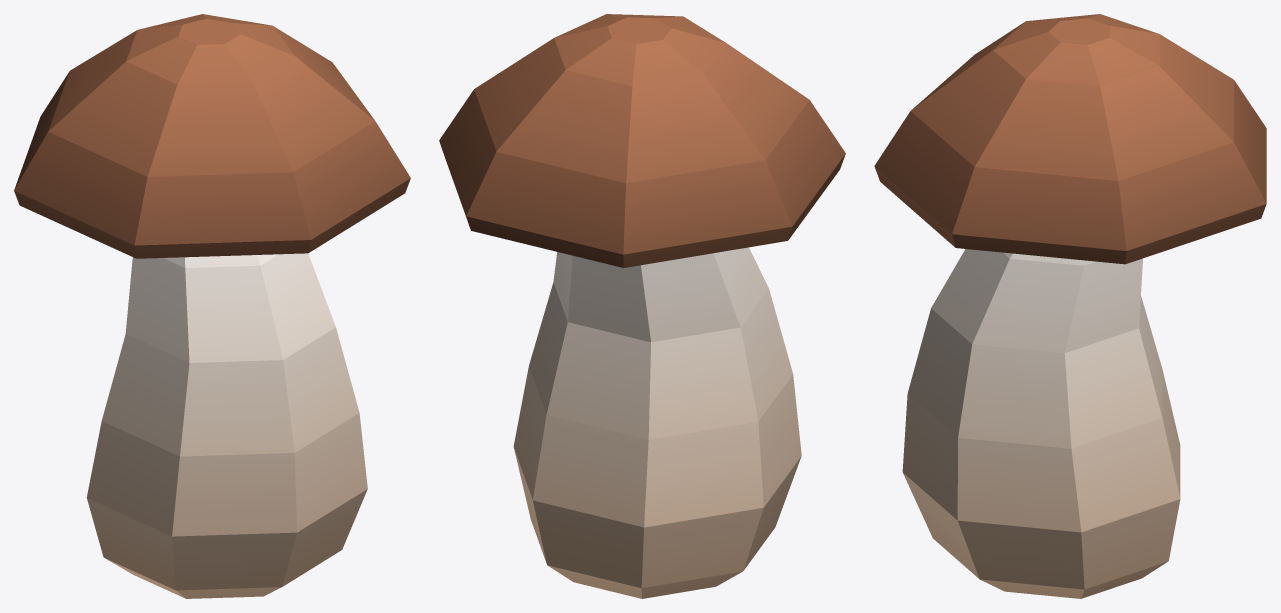
The model's file is mushroom brown.fbx.
3 renders of one model, left to right at view 1: azimuth 30°, elevation 25°; view 2: azimuth 150°, elevation 25°; view 3: azimuth 270°, elevation 25°, orthographic. The views are drawn at different scales.
Visible parts, largest first — view 1: mushroom brown; view 2: mushroom brown; view 3: mushroom brown.
Part boxes in pixels (x1=…): mushroom brown: x1=14, y1=14, x2=410, y2=598; mushroom brown: x1=439, y1=14, x2=845, y2=598; mushroom brown: x1=874, y1=14, x2=1266, y2=598.
Size of the model in its own units: 34.83 by 50.63 by 33.95.
